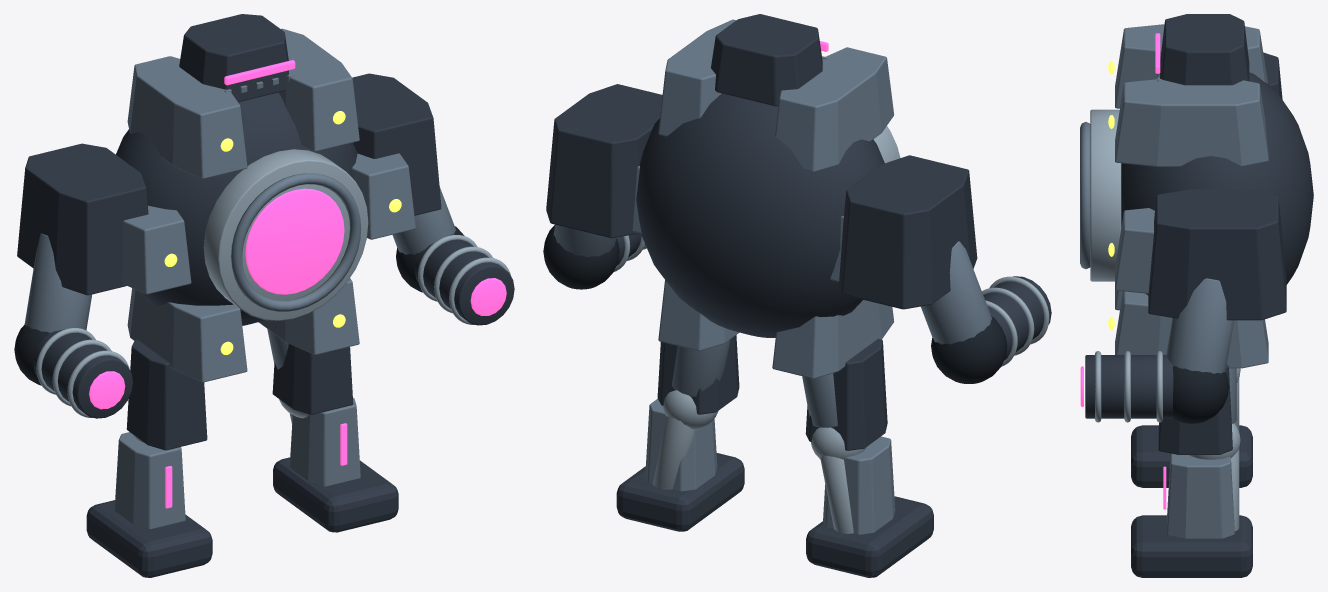
The model's file is Guardian.fbx.
The picture shows the model from 3 angles, left to right: view 1: azimuth 30°, elevation 25°; view 2: azimuth 150°, elevation 25°; view 3: azimuth 270°, elevation 25°; orthographic projection. The views are drawn at different scales.
Visible parts, largest first — view 1: GuardianShoulder, GuardianCoreHousing, SegmentedCarapace_2, CoreSocket, VulnerableCore, GuardianShoulder.001, SegmentedCarapace_4, GuardianHead, SegmentedCarapace_1, LegShield, GuardianFoot, GuardianFoot.001 (+18 smaller); view 2: GuardianCoreHousing, GuardianShoulder, GuardianShoulder.001, SegmentedCarapace_2, GuardianHead, SegmentedCarapace_4, GuardianFoot, GuardianFoot.001, LegShield, SegmentedCarapace_1, ShinShell, WeaponArm (+13 smaller); view 3: GuardianShoulder.001, SegmentedCarapace_1, GuardianCoreHousing, GuardianFoot.001, GuardianHead, ShinShell.001, CoreSocket, WeaponArm.001, SegmentedCarapace_5, PulseCannon.001, SegmentedCarapace_2, SegmentedCarapace_0 (+11 smaller).
Part boxes in pixels (box(x1,y1,x2,y2)): GuardianShoulder: box(17, 143, 148, 295); GuardianCoreHousing: box(116, 92, 357, 325); SegmentedCarapace_2: box(127, 56, 247, 178); CoreSocket: box(203, 149, 368, 320); VulnerableCore: box(245, 188, 344, 294); GuardianShoulder.001: box(352, 73, 441, 215); SegmentedCarapace_4: box(127, 288, 247, 382); GuardianHead: box(179, 14, 288, 102); SegmentedCarapace_1: box(278, 28, 359, 151); LegShield: box(126, 339, 207, 450); GuardianFoot: box(86, 500, 212, 577); GuardianFoot.001: box(273, 457, 398, 532); GuardianCoreHousing: box(636, 93, 884, 337); GuardianShoulder: box(838, 155, 977, 309); GuardianShoulder.001: box(546, 84, 662, 238); SegmentedCarapace_2: box(775, 47, 894, 172); GuardianHead: box(711, 14, 822, 106); SegmentedCarapace_4: box(772, 300, 894, 378); GuardianFoot: box(806, 496, 933, 577); GuardianFoot.001: box(616, 453, 744, 531); LegShield: box(805, 338, 887, 450); SegmentedCarapace_1: box(658, 19, 736, 136); ShinShell: box(823, 436, 895, 534); WeaponArm: box(921, 241, 991, 344); GuardianShoulder.001: box(1148, 189, 1286, 320); SegmentedCarapace_1: box(1115, 79, 1268, 166); GuardianCoreHousing: box(1121, 72, 1313, 295); GuardianFoot.001: box(1131, 515, 1252, 577); GuardianHead: box(1160, 14, 1249, 85); ShinShell.001: box(1167, 453, 1234, 538); CoreSocket: box(1090, 109, 1121, 281); WeaponArm.001: box(1166, 278, 1234, 373); SegmentedCarapace_5: box(1115, 291, 1268, 368); PulseCannon.001: box(1085, 355, 1173, 418); SegmentedCarapace_2: box(1115, 24, 1267, 108); SegmentedCarapace_0: box(1115, 208, 1154, 293).
Bounding box in the file's own units: 3.98 × 4.18 × 1.82.
